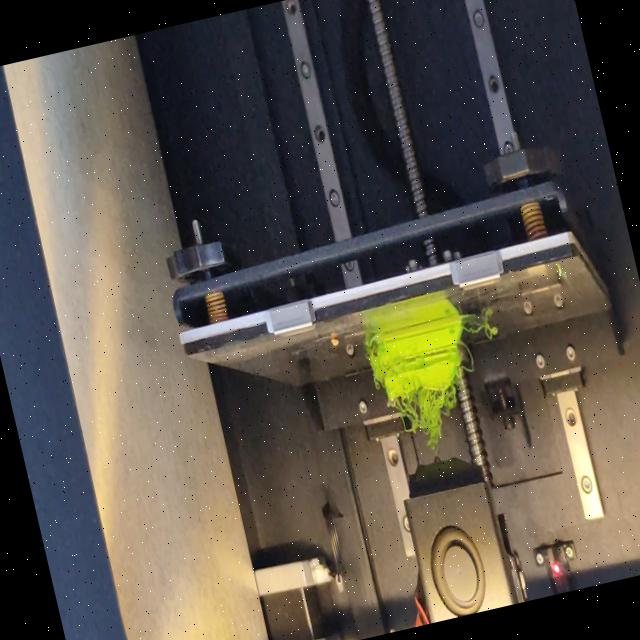spaghetti: (386, 377, 472, 458), (456, 342, 478, 381), (465, 318, 498, 341), (362, 333, 376, 350)
